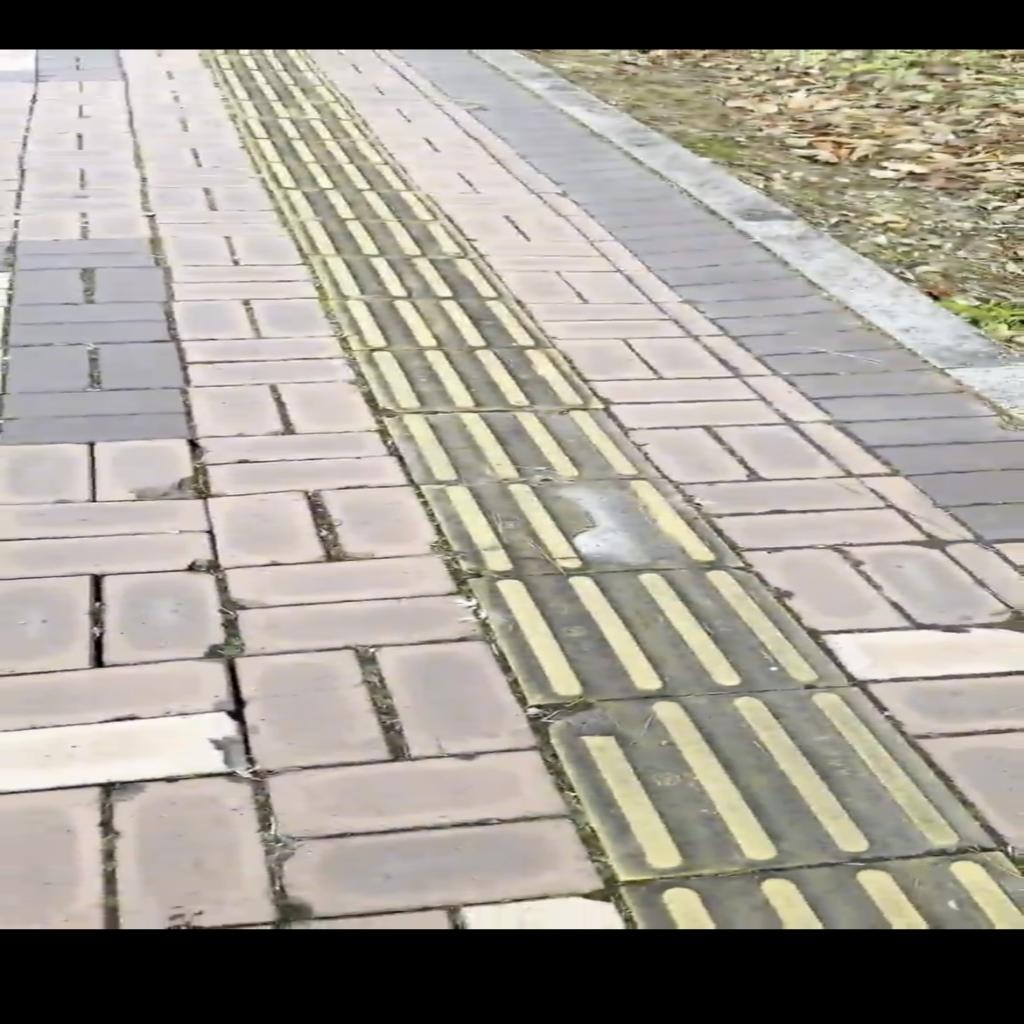Straight block broken: (531, 666, 997, 887), (422, 472, 747, 578)
Straight block normal: (471, 558, 848, 707), (381, 409, 660, 483), (354, 344, 602, 414), (330, 296, 551, 351)
